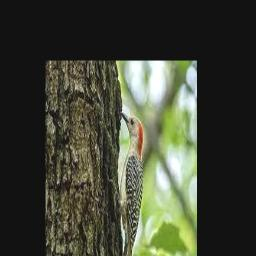Woodpecker: (108, 111, 143, 256)
